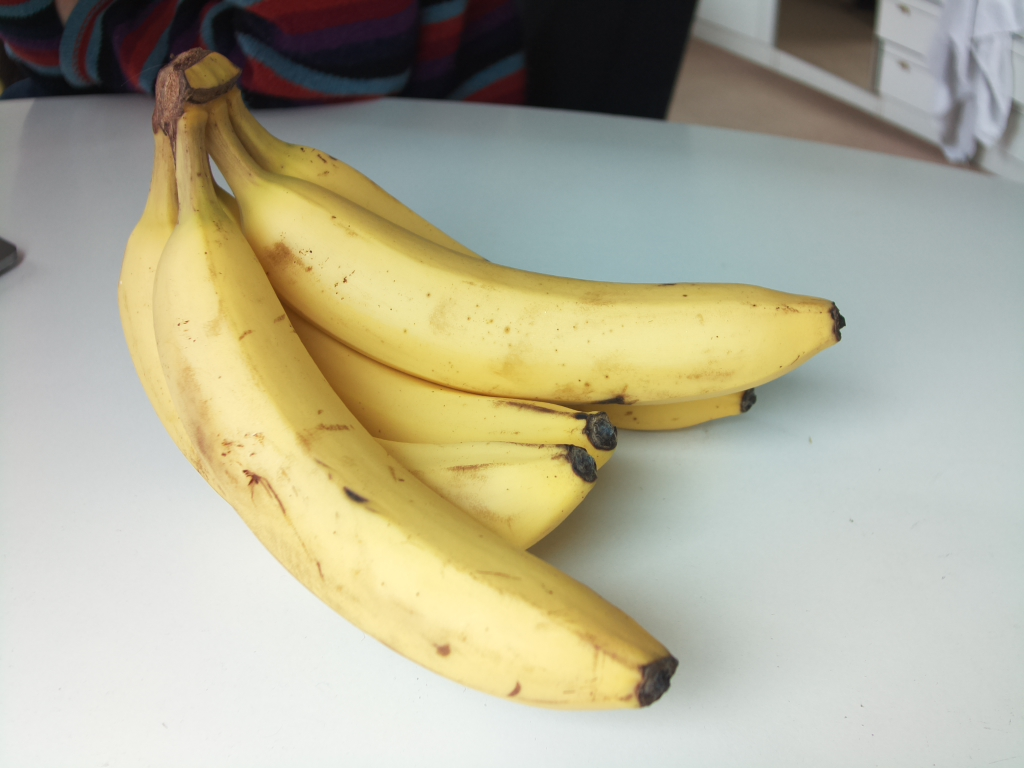banana: (156, 70, 680, 712), (177, 52, 847, 410), (119, 70, 598, 563), (198, 56, 759, 428), (154, 75, 617, 473)
